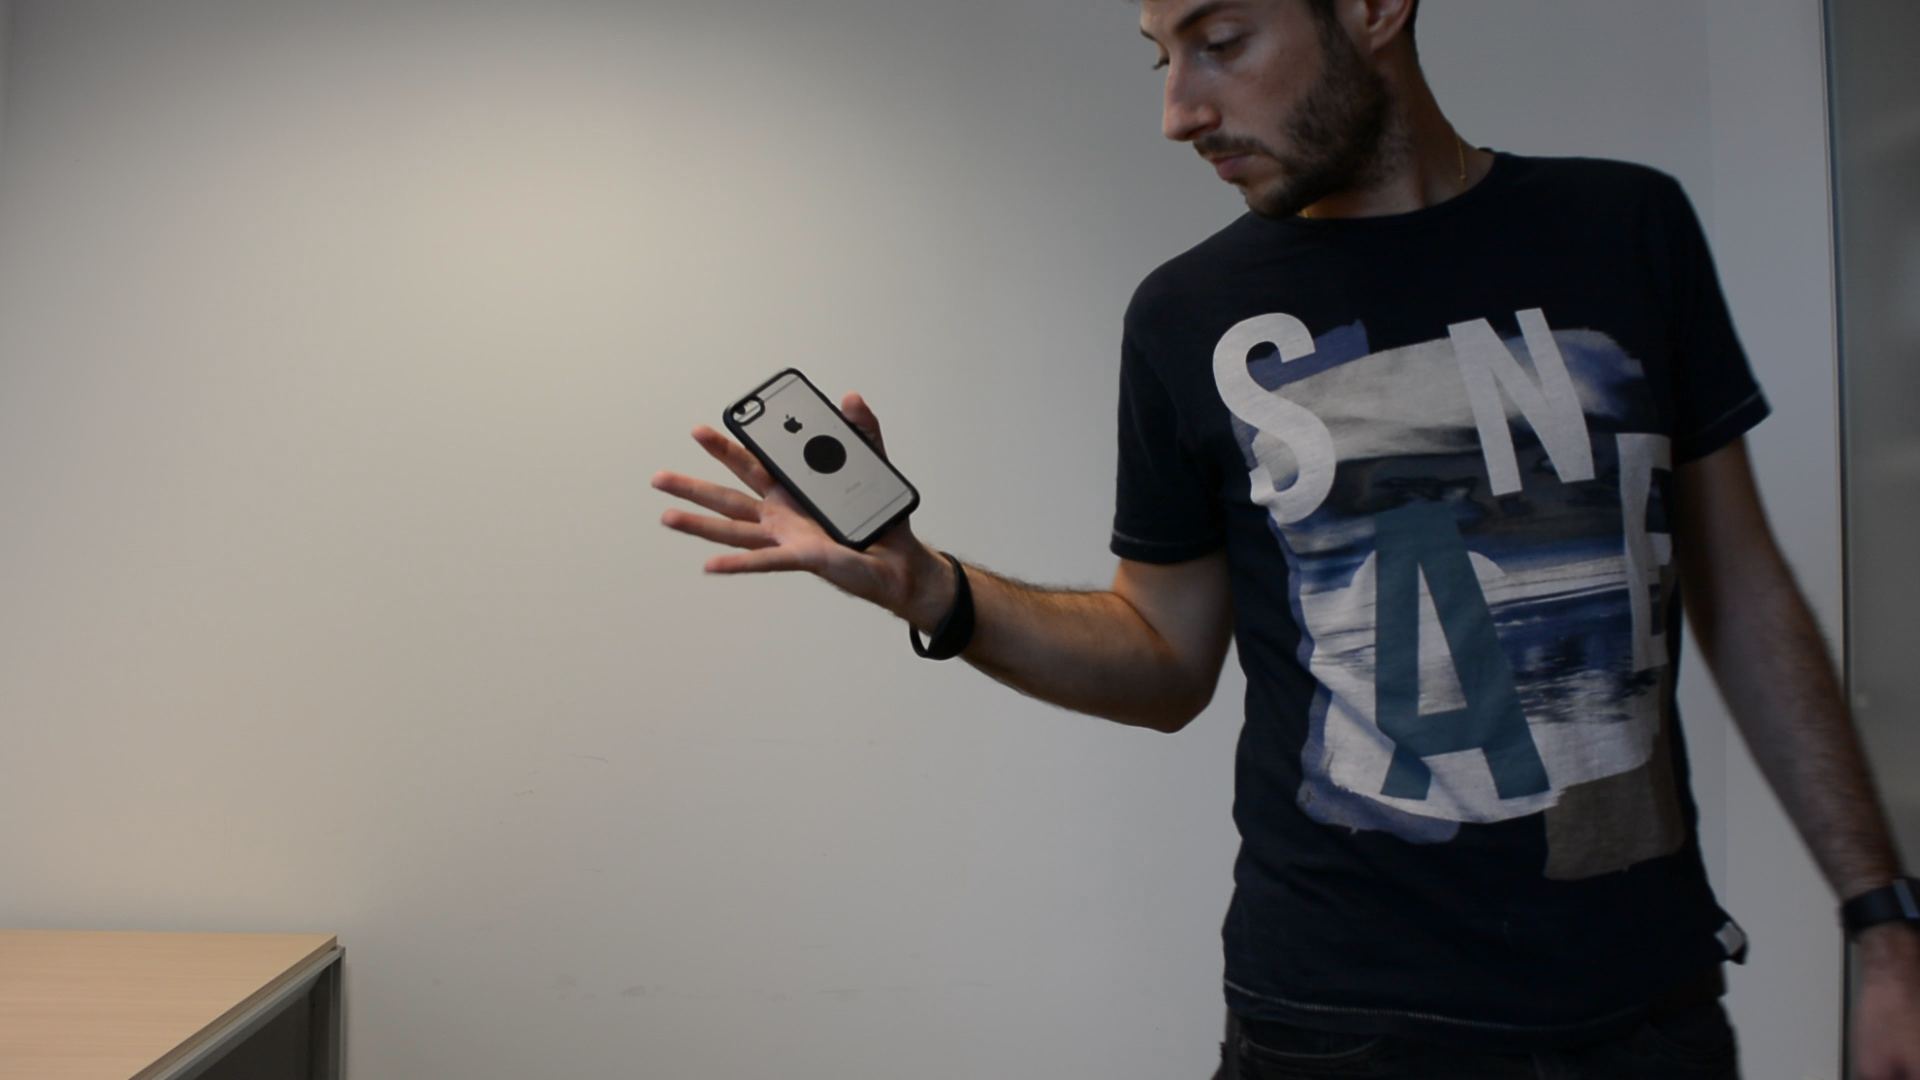smartphone: (721, 367, 923, 553)
